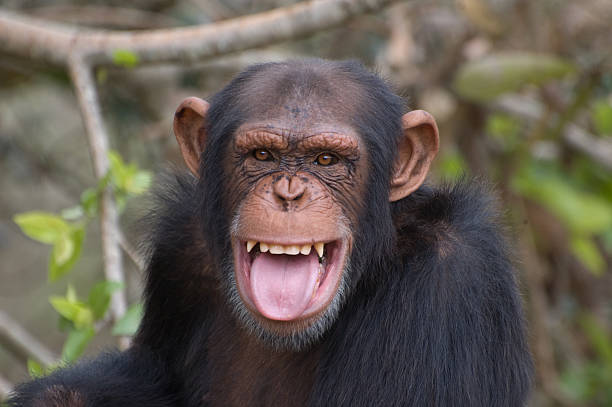chimpanzee: (154, 46, 459, 378)
